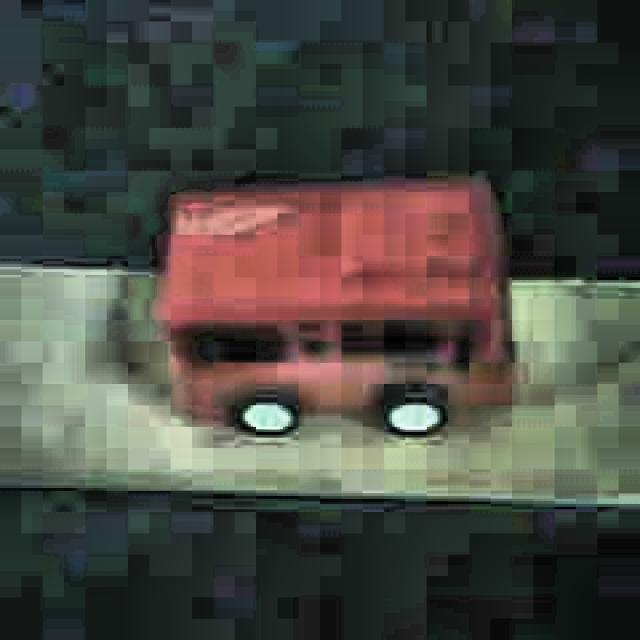bus: (155, 174, 518, 440)
